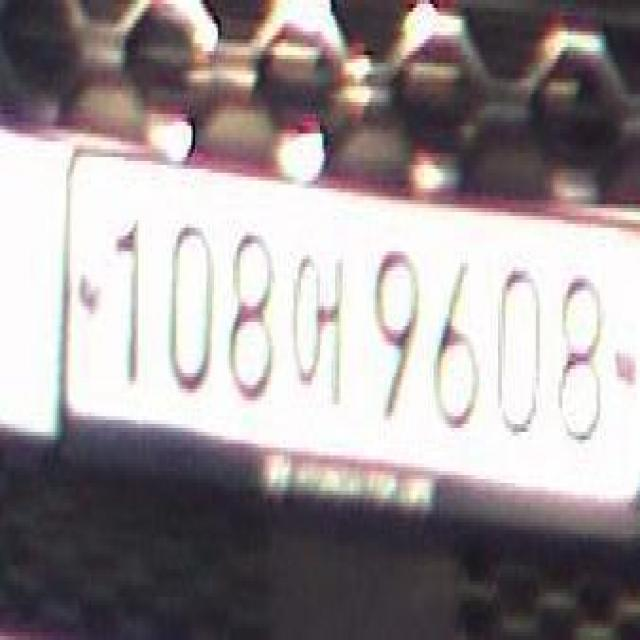illegal_plate: (65, 148, 639, 536)
